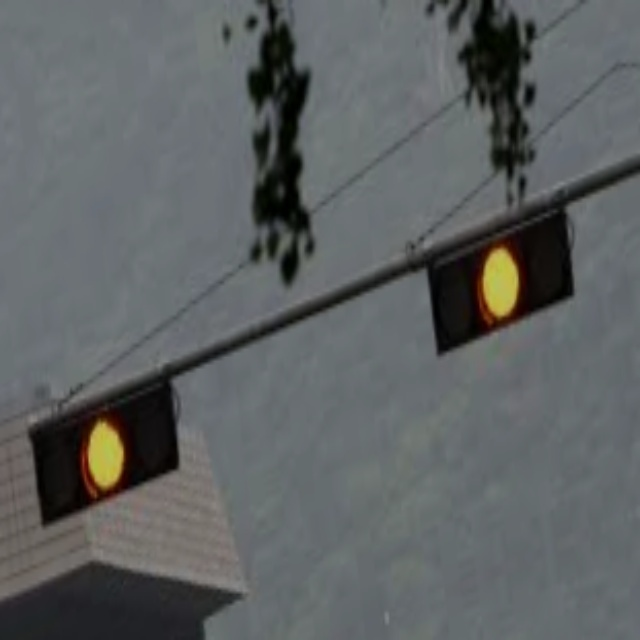yellow_light: (73, 407, 131, 504), (475, 235, 525, 329)
